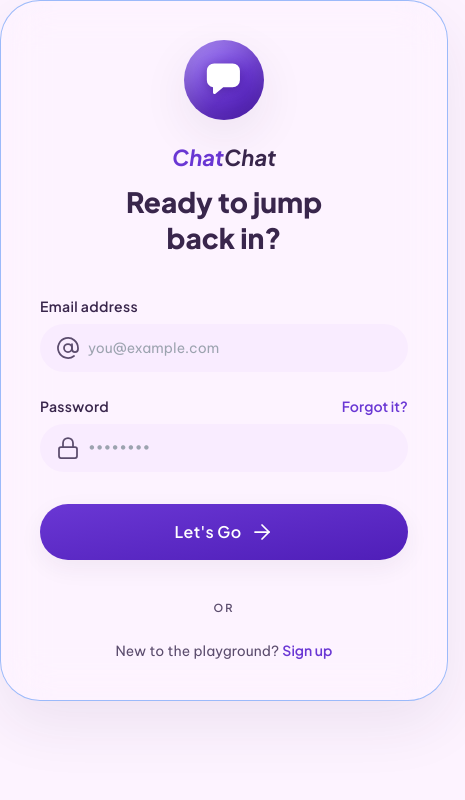
Test case: <LoginPage /> › credentials step — maps UNAUTHENTICATED into a user-visible error
This screenshot has width=465, height=800.
In the field labelled "Email address": (224, 348) x1=40 y1=324 x2=408 y2=372, type "u@example.com"
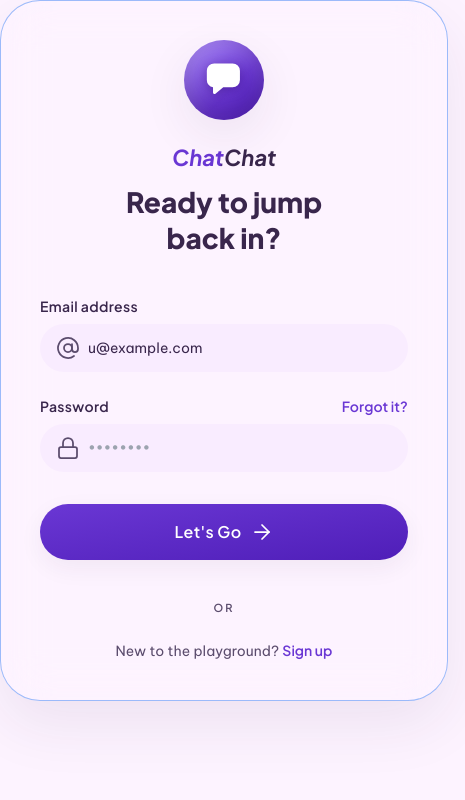
In the password field labelled "Password": (224, 448) x1=40 y1=424 x2=408 y2=472, type "WrongPass12!"
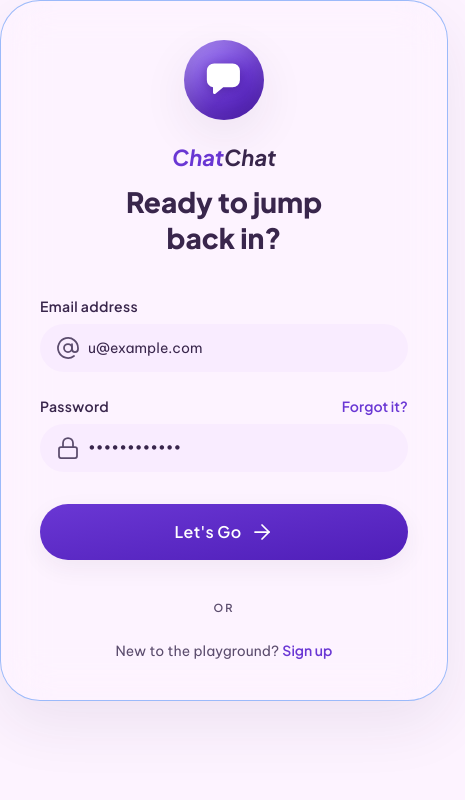
Click the button "Let's Go": (224, 532) x1=40 y1=504 x2=408 y2=560
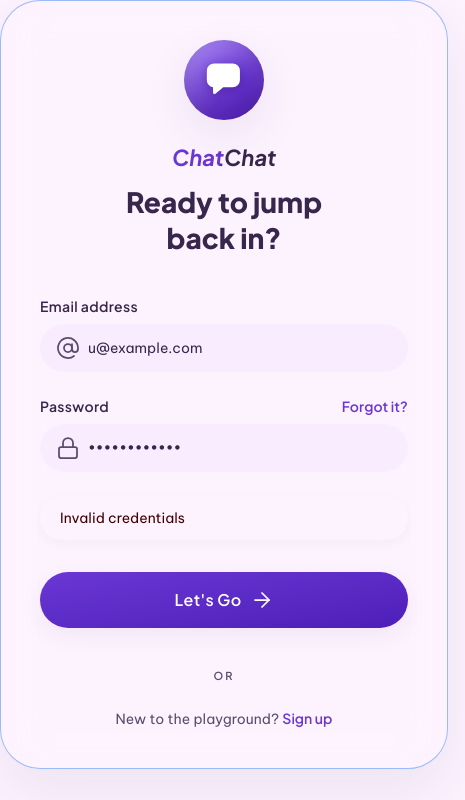
Expected: the text "Invalid credentials" is shown, x1=40 y1=496 x2=408 y2=540
